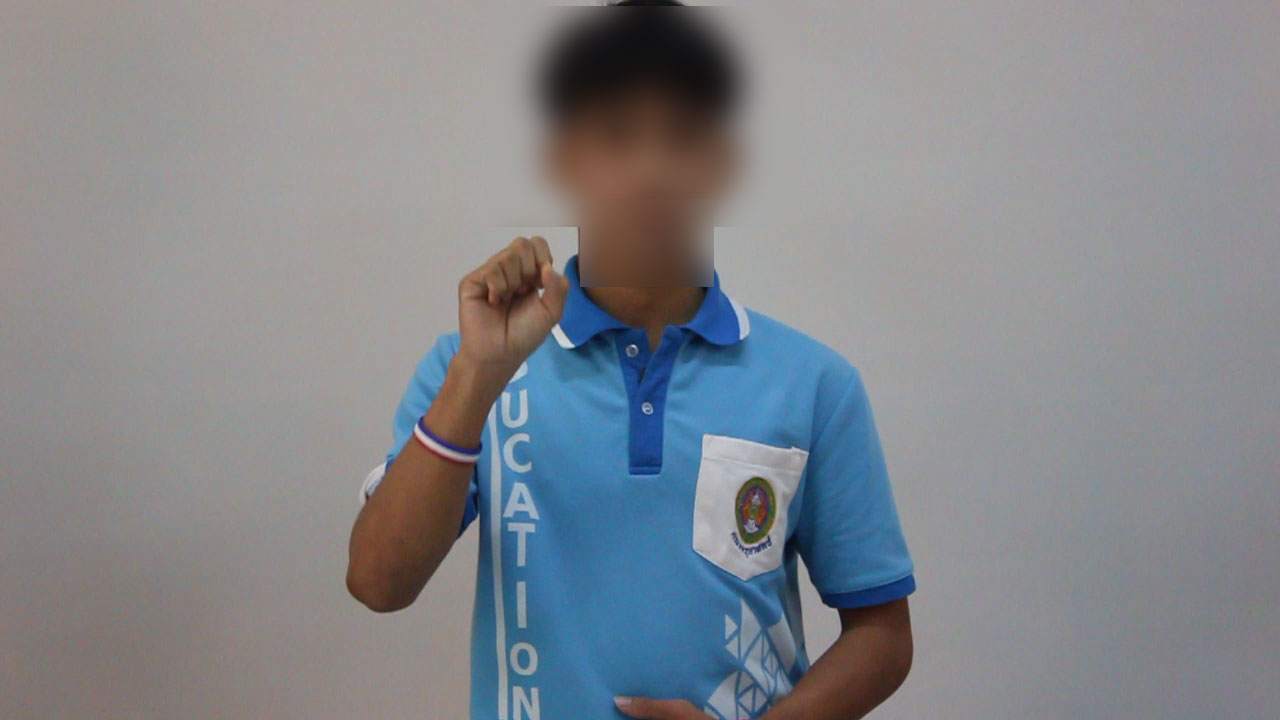sor: (434, 213, 576, 389)
